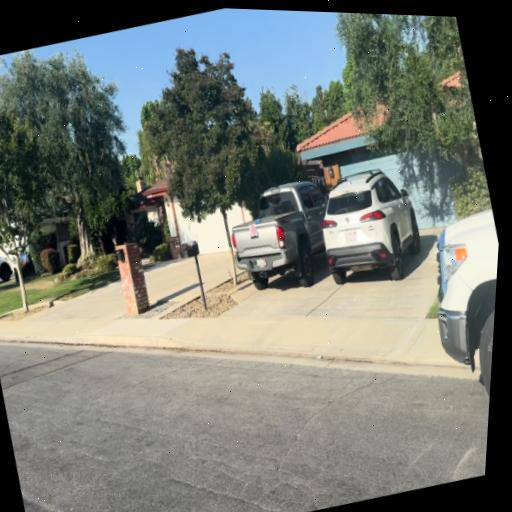bullseye: (249, 223, 258, 236)
